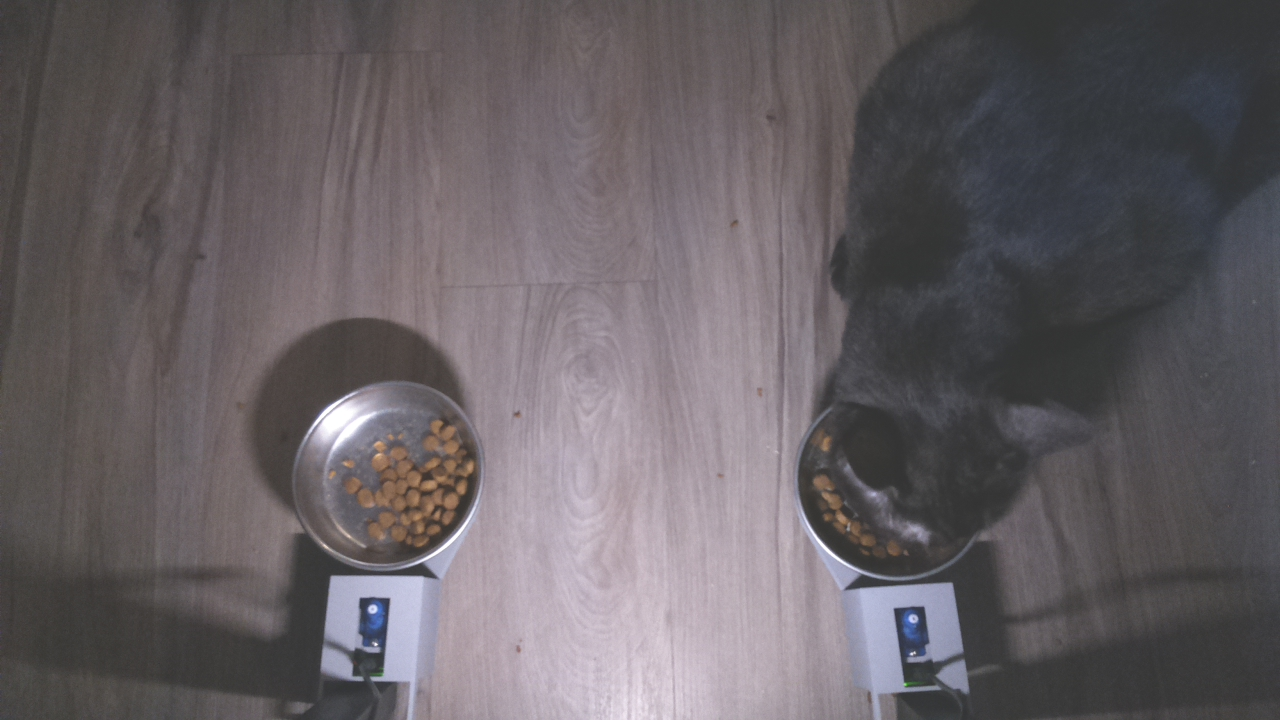open_bowl: (291, 376, 486, 577)
saki_eating: (797, 315, 1082, 592)
